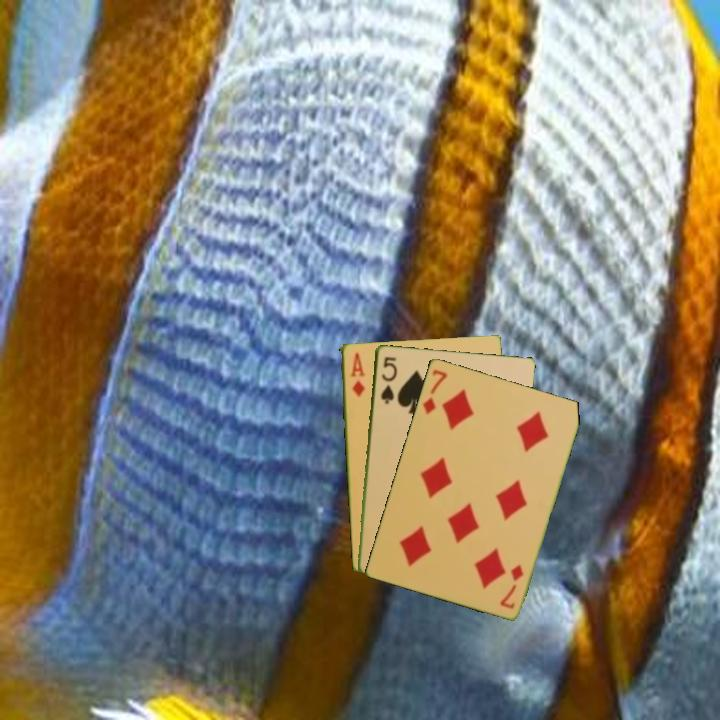5s: (377, 353, 399, 406)
7d: (419, 366, 450, 417), (496, 560, 526, 612)
Ad: (346, 348, 367, 399)
